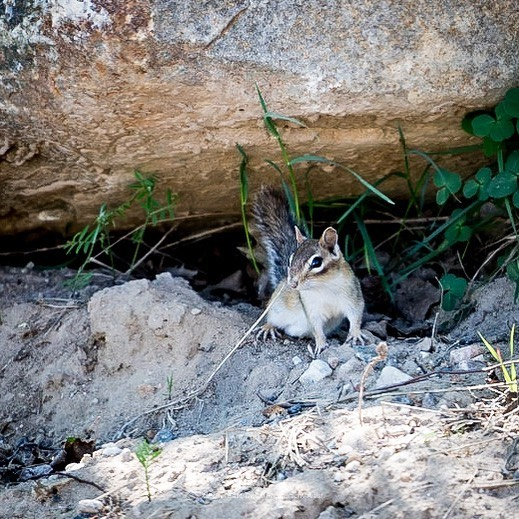animal: (252, 186, 379, 360)
